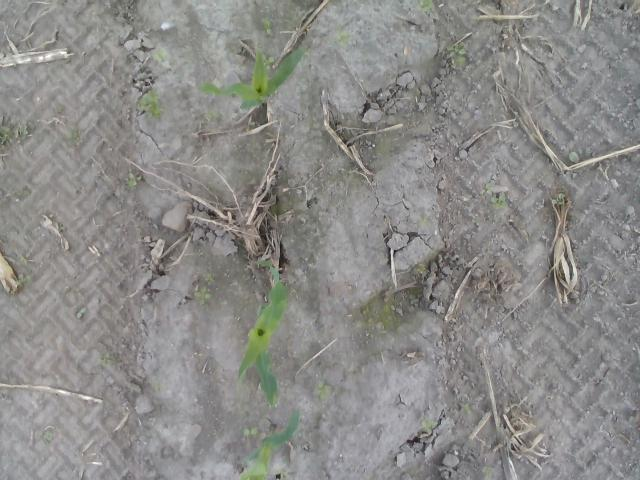Maize: (198, 30, 309, 112), (234, 260, 288, 410), (236, 409, 302, 480)
Weeds: (0, 117, 34, 150), (480, 184, 510, 210), (136, 92, 162, 118), (255, 41, 275, 73), (193, 286, 213, 308), (446, 44, 466, 66), (313, 380, 332, 401), (332, 30, 352, 49), (16, 274, 34, 288), (468, 217, 496, 226), (126, 174, 142, 188), (68, 130, 82, 146), (421, 420, 436, 434), (153, 48, 169, 61), (261, 19, 274, 35), (419, 1, 435, 14), (568, 152, 582, 166), (482, 466, 496, 480), (273, 470, 292, 480), (75, 307, 89, 320), (98, 354, 111, 368), (202, 110, 220, 119), (38, 432, 53, 442), (242, 428, 258, 437), (551, 194, 563, 206), (21, 188, 33, 200), (418, 215, 429, 226), (16, 255, 29, 264), (412, 266, 425, 275), (58, 106, 66, 120), (154, 382, 164, 393), (204, 274, 213, 284), (246, 122, 255, 132), (464, 402, 471, 414), (430, 88, 438, 96), (60, 226, 67, 233), (362, 476, 372, 480)
